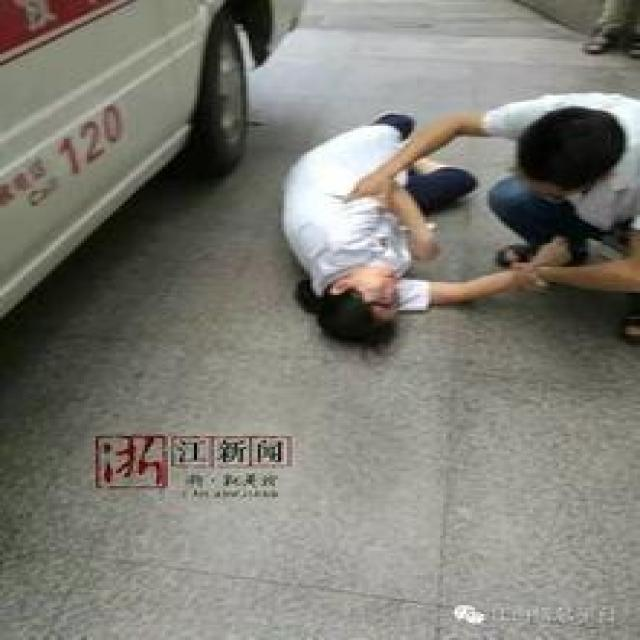fall: (355, 90, 640, 361), (255, 114, 570, 354)
